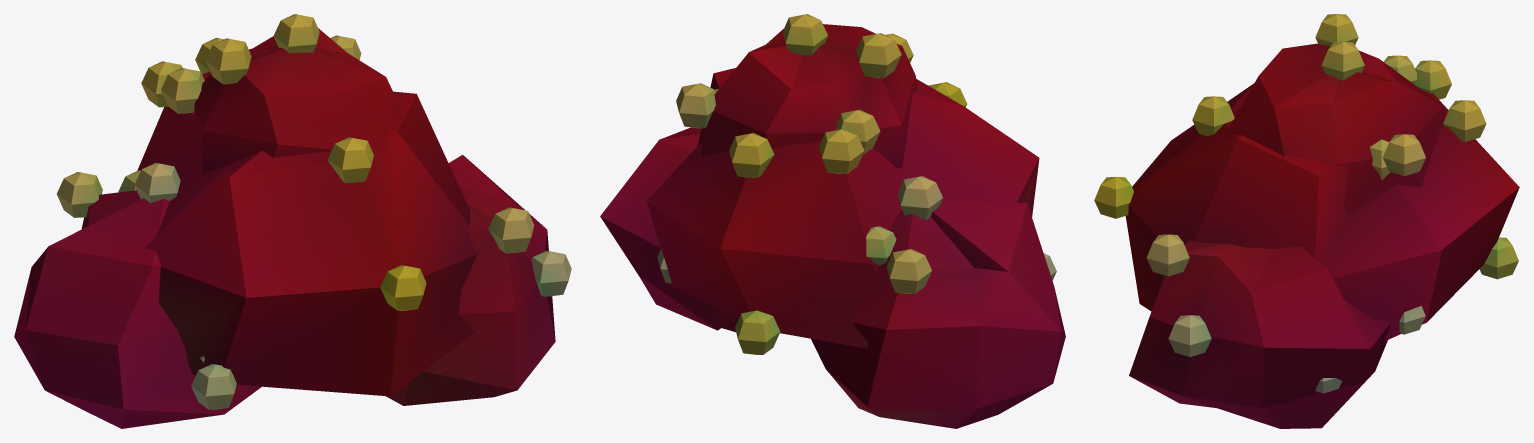
The model's file is Bush_Blossom_01.fbx.
The picture shows the model from 3 angles, left to right: view 1: azimuth 30°, elevation 25°; view 2: azimuth 150°, elevation 25°; view 3: azimuth 270°, elevation 25°; orthographic projection. The views are drawn at different scales.
Visible parts, largest first — view 1: Bush_Blossom_01; view 2: Bush_Blossom_01; view 3: Bush_Blossom_01.
Boxes of the visible parts, bbox=[...] form: Bush_Blossom_01: bbox=[14, 14, 571, 428]; Bush_Blossom_01: bbox=[600, 14, 1065, 428]; Bush_Blossom_01: bbox=[1094, 14, 1519, 428].
Size of the model in its own units: 1.65 by 1.17 by 1.4.
